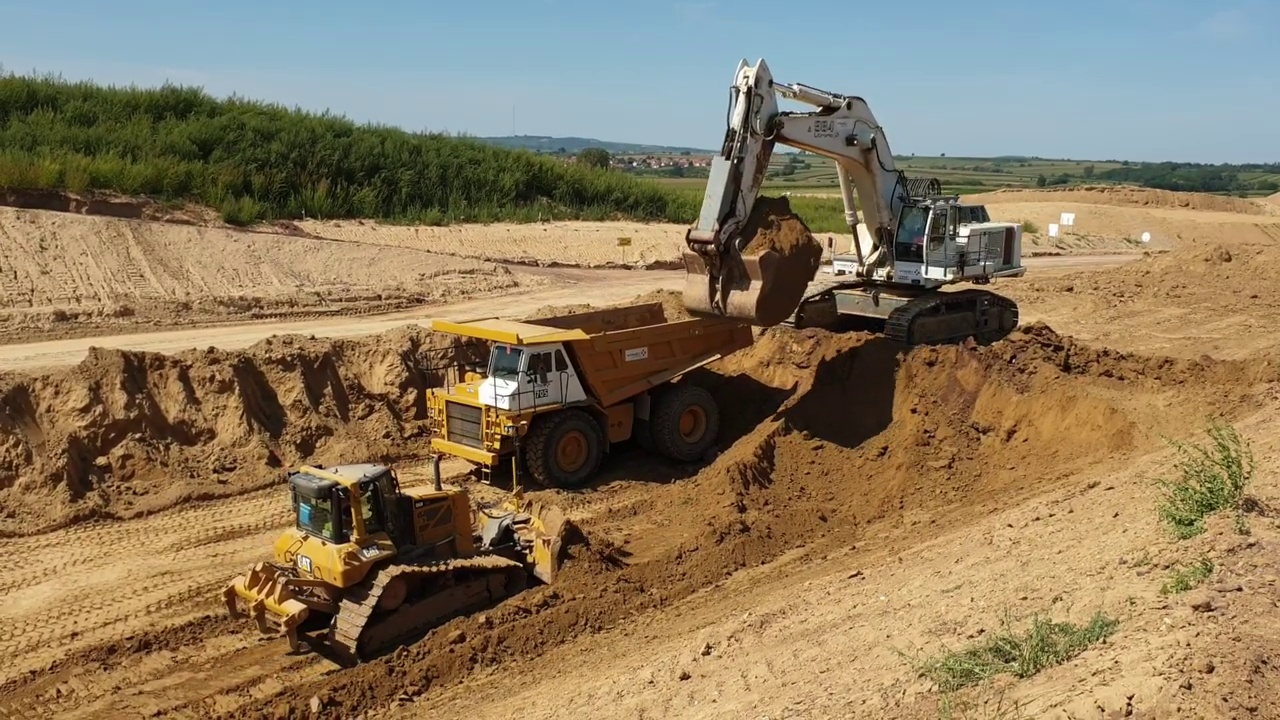bulldozer: (222, 431, 573, 662)
excavator: (683, 51, 1029, 350)
truck: (408, 295, 764, 496)
